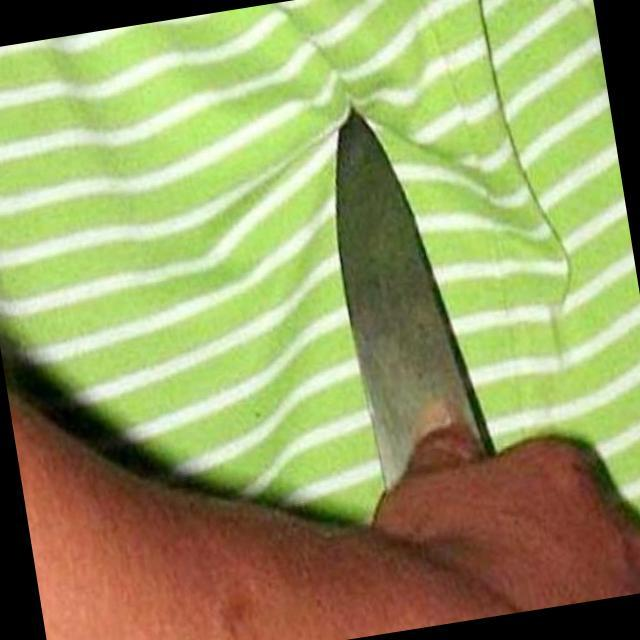Knife: (297, 51, 640, 632)
